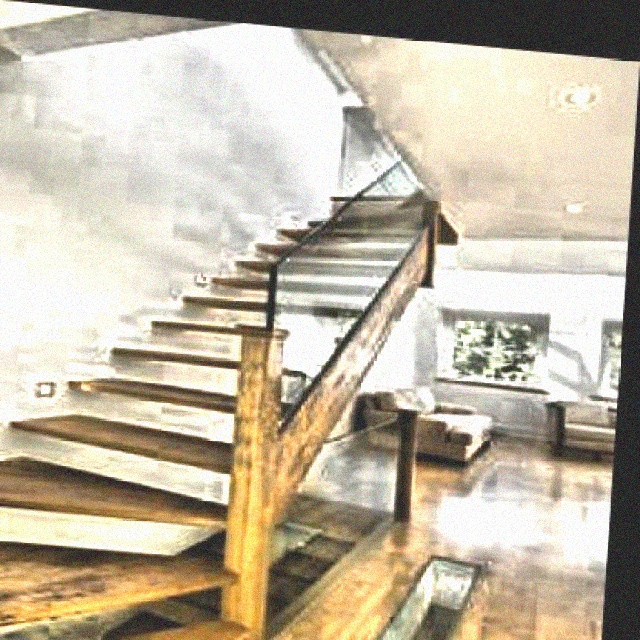stair: (0, 140, 331, 525)
